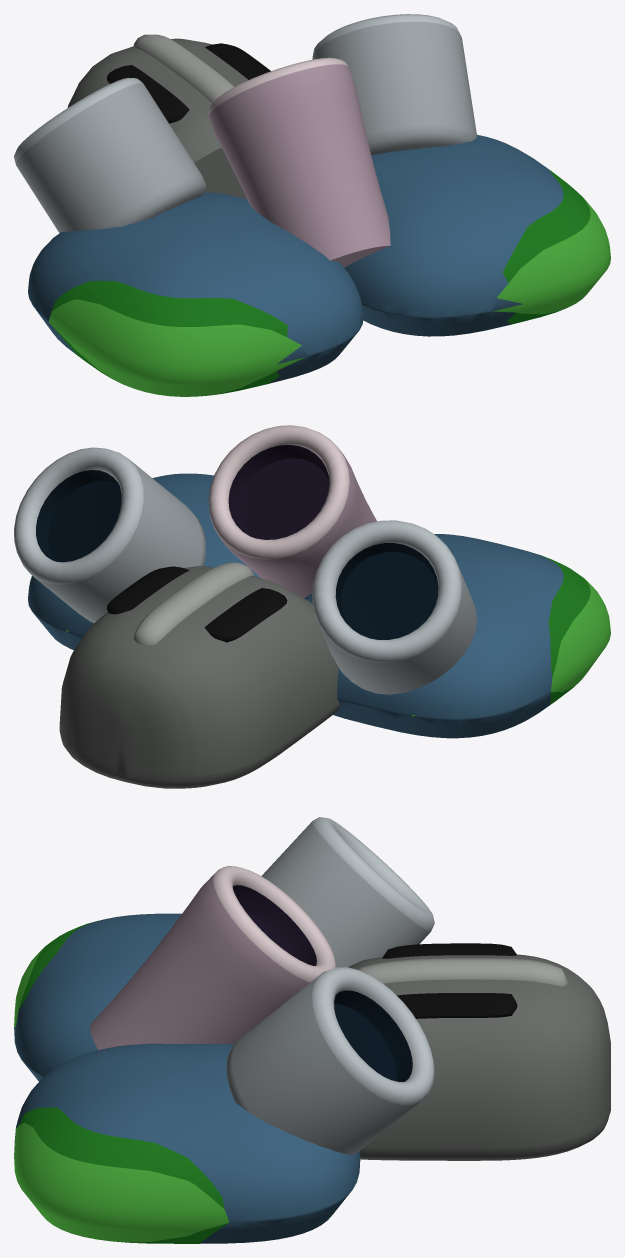
File: pod_turret.glb
3 renders of one model, top to bottom at view 1: azimuth 30°, elevation 25°; view 2: azimuth 150°, elevation 25°; view 3: azimuth 270°, elevation 25°, orthographic. The views are drawn at different scales.
Visible parts, largest first — view 1: shell, shell_r, nozzle, cup, cup_r, cowl, rib, slot-1, slot1; view 2: cowl, shell, cup, cup_r, nozzle, shell_r, rib, slot-1, slot1; view 3: shell_r, cowl, cup_r, nozzle, shell, cup, rib, slot1, slot-1.
Boxes of the visible parts, x1,y1,x2,y2 form: shell: [28, 192, 363, 396]; shell_r: [344, 134, 610, 336]; nozzle: [208, 57, 390, 267]; cup: [14, 77, 206, 233]; cup_r: [312, 14, 476, 154]; cowl: [67, 38, 248, 199]; rib: [133, 34, 234, 103]; slot-1: [107, 65, 189, 123]; slot1: [205, 43, 270, 79]; cowl: [59, 565, 339, 788]; shell: [304, 534, 610, 738]; cup: [312, 520, 476, 694]; cup_r: [14, 447, 206, 622]; nozzle: [208, 425, 377, 598]; shell_r: [28, 473, 260, 649]; rib: [133, 562, 254, 645]; slot-1: [204, 588, 287, 642]; slot1: [107, 566, 189, 614]; shell_r: [14, 1043, 360, 1243]; cowl: [348, 954, 610, 1160]; cup_r: [226, 967, 434, 1154]; nozzle: [90, 866, 336, 1050]; shell: [14, 913, 181, 1081]; cup: [261, 817, 434, 967]; rib: [358, 958, 568, 986]; slot1: [397, 993, 517, 1018]; slot-1: [382, 943, 516, 958].
Size of the model in its own units: 23.4 by 10.4 by 22.4.
